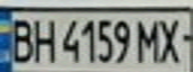1: (78, 16, 96, 63)
4: (57, 15, 81, 64)
5: (93, 16, 115, 64)
9: (112, 17, 136, 64)
B: (3, 15, 36, 64)
H: (27, 15, 57, 64)
M: (136, 16, 163, 64)
X: (154, 15, 190, 65)
